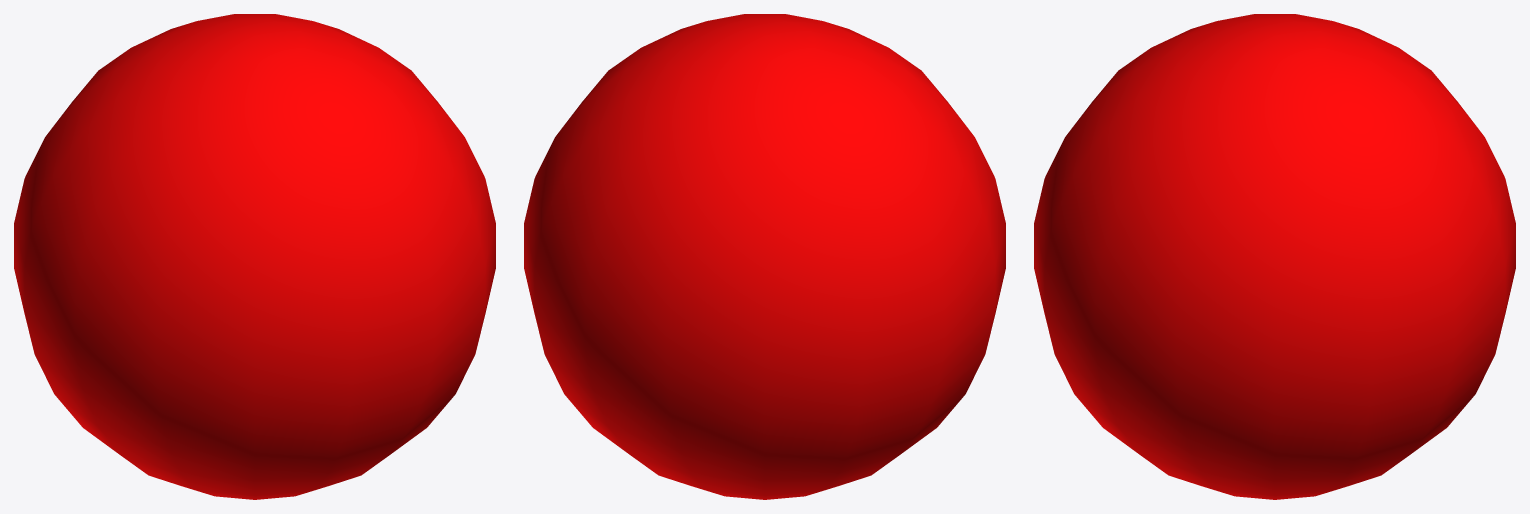
Rendered from Projectile2.obj.
3 renders of one model, left to right at view 1: azimuth 30°, elevation 25°; view 2: azimuth 150°, elevation 25°; view 3: azimuth 270°, elevation 25°, orthographic.
Parts seen in each view (by area): view 1: pSphere1; view 2: pSphere1; view 3: pSphere1.
Boxes of the visible parts, <box> form: pSphere1: <box>14,14,495,499</box>; pSphere1: <box>524,14,1005,499</box>; pSphere1: <box>1034,14,1515,499</box>.
Bounding box in the file's own units: 9.84 × 10 × 9.89.
